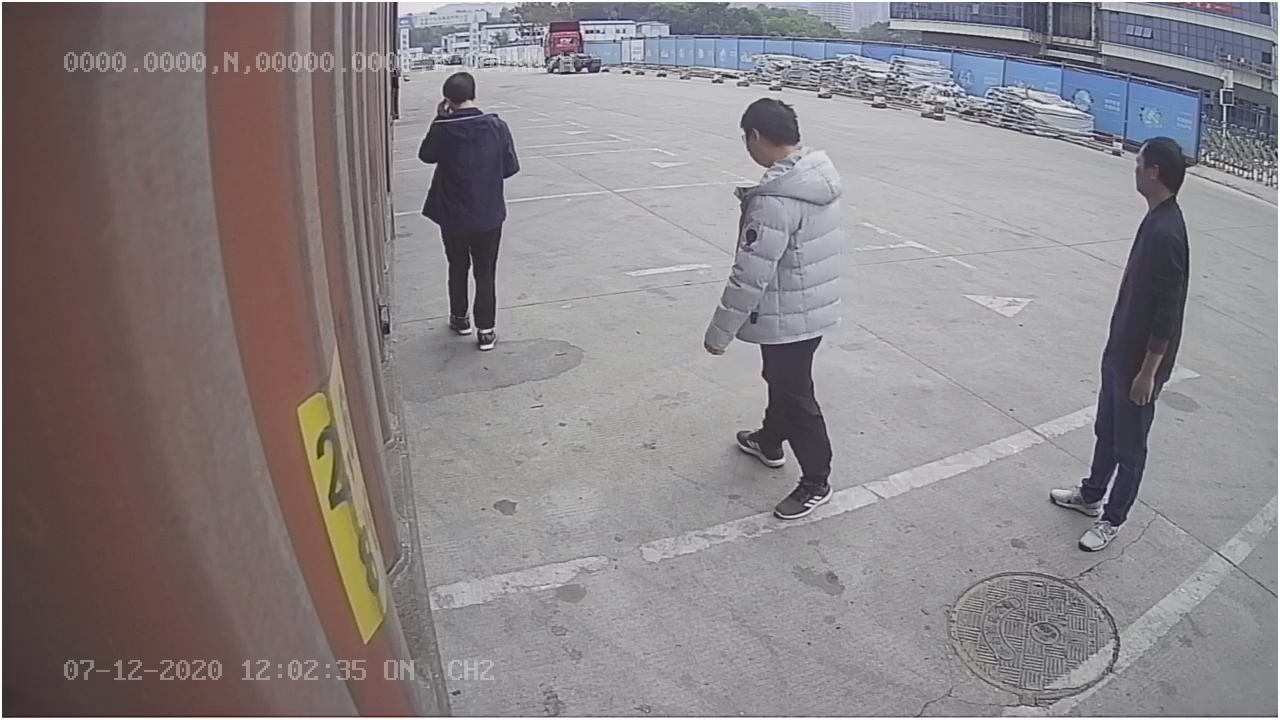person: (706, 92, 846, 521), (1050, 134, 1192, 556), (418, 67, 523, 351)
